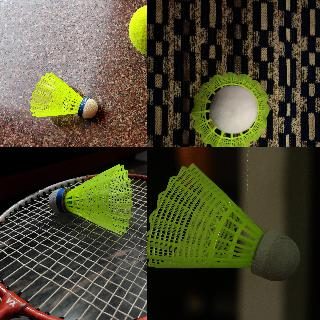shuttlecock: (147, 162, 300, 282), (190, 72, 269, 146), (49, 165, 131, 235), (31, 72, 98, 118)
